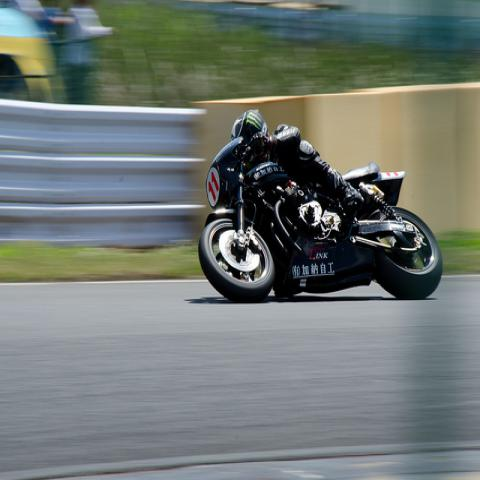motorcycle: (199, 132, 442, 305)
